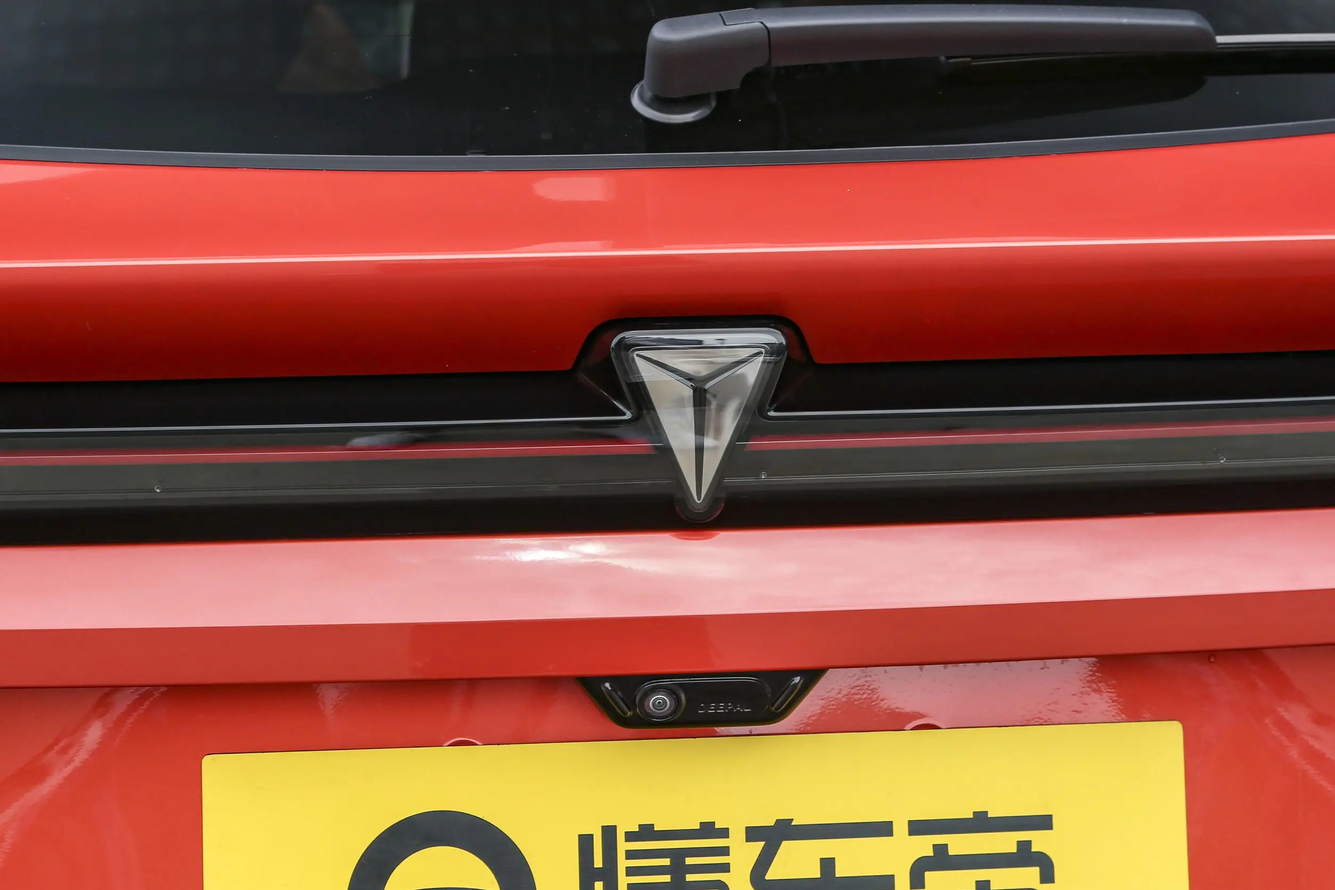Deepal: (634, 348, 765, 501)
